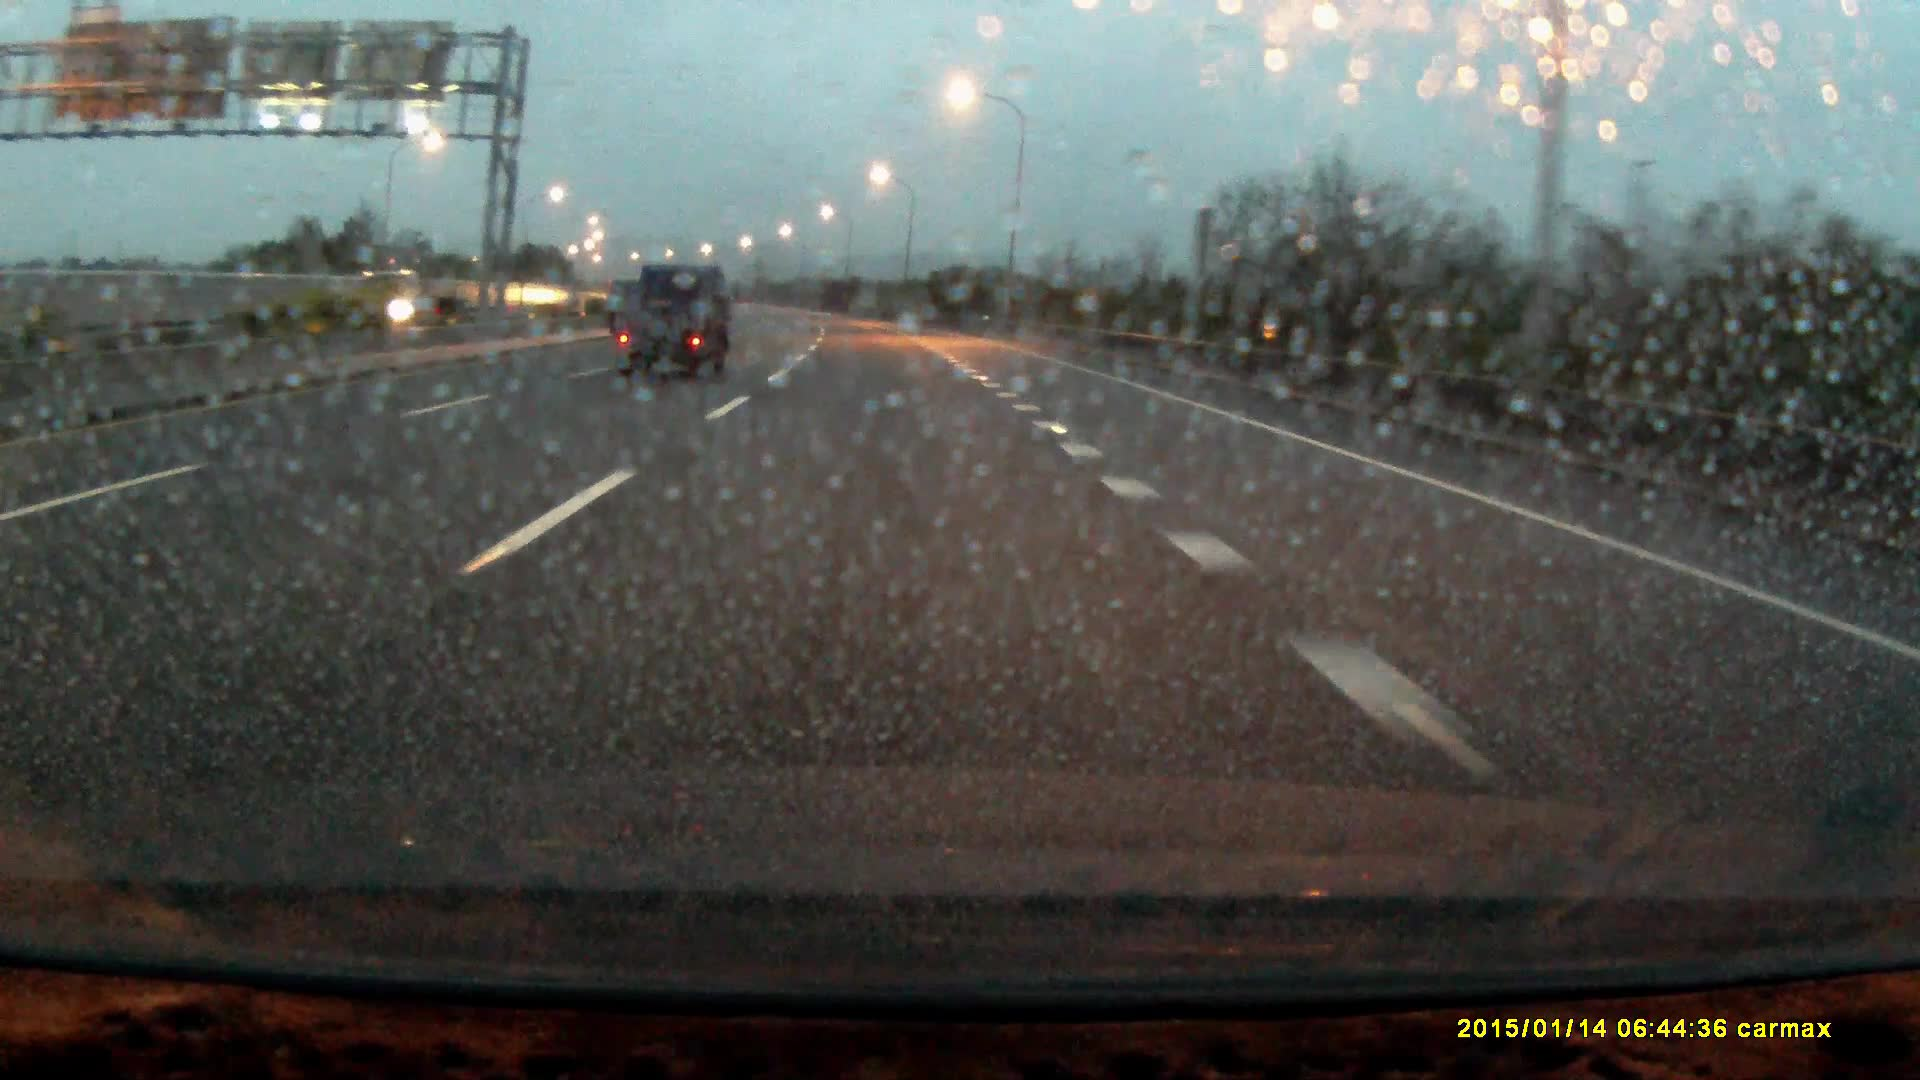vehicle: (615, 261, 733, 382), (353, 262, 471, 319)
